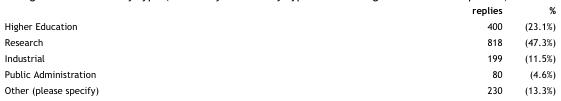table: (3, 3, 554, 95)
table column: (3, 3, 284, 95), (284, 3, 512, 95), (512, 3, 554, 95)
table column header: (3, 3, 554, 17)
table row: (3, 17, 554, 33), (3, 33, 554, 49), (3, 49, 554, 65), (3, 65, 554, 81), (3, 3, 554, 17), (3, 81, 554, 95)
